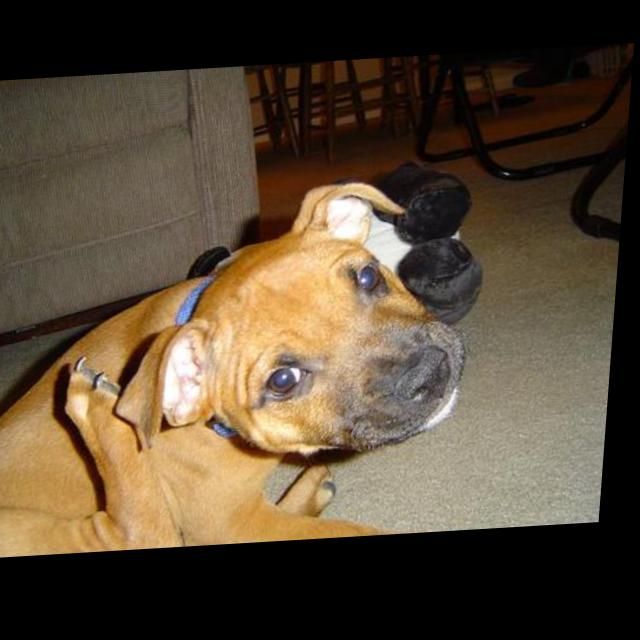amstaff: (1, 176, 511, 560)
